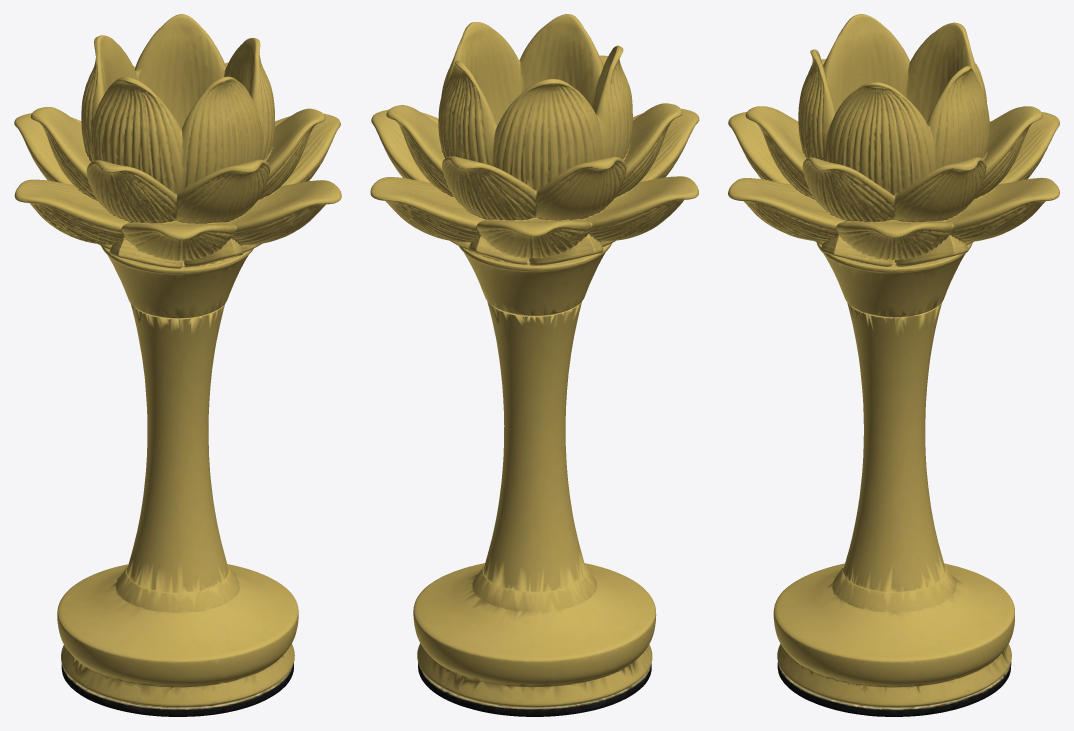
The model's file is golden lotus trophy 3d model.glb.
3 renders of one model, left to right at view 1: azimuth 30°, elevation 25°; view 2: azimuth 150°, elevation 25°; view 3: azimuth 270°, elevation 25°, orthographic.
Visible parts, largest first — view 1: tripo_node_2608d827-9c13-4409-a99e-6a2acb7957e0; view 2: tripo_node_2608d827-9c13-4409-a99e-6a2acb7957e0; view 3: tripo_node_2608d827-9c13-4409-a99e-6a2acb7957e0.
Part boxes in pixels (x1,y1,x2,y2): tripo_node_2608d827-9c13-4409-a99e-6a2acb7957e0: (14,14,341,716); tripo_node_2608d827-9c13-4409-a99e-6a2acb7957e0: (370,14,699,716); tripo_node_2608d827-9c13-4409-a99e-6a2acb7957e0: (728,14,1059,716).
Bounding box in the file's own units: 0.5321 × 0.9788 × 0.4738.
1 material, 1 textured.
